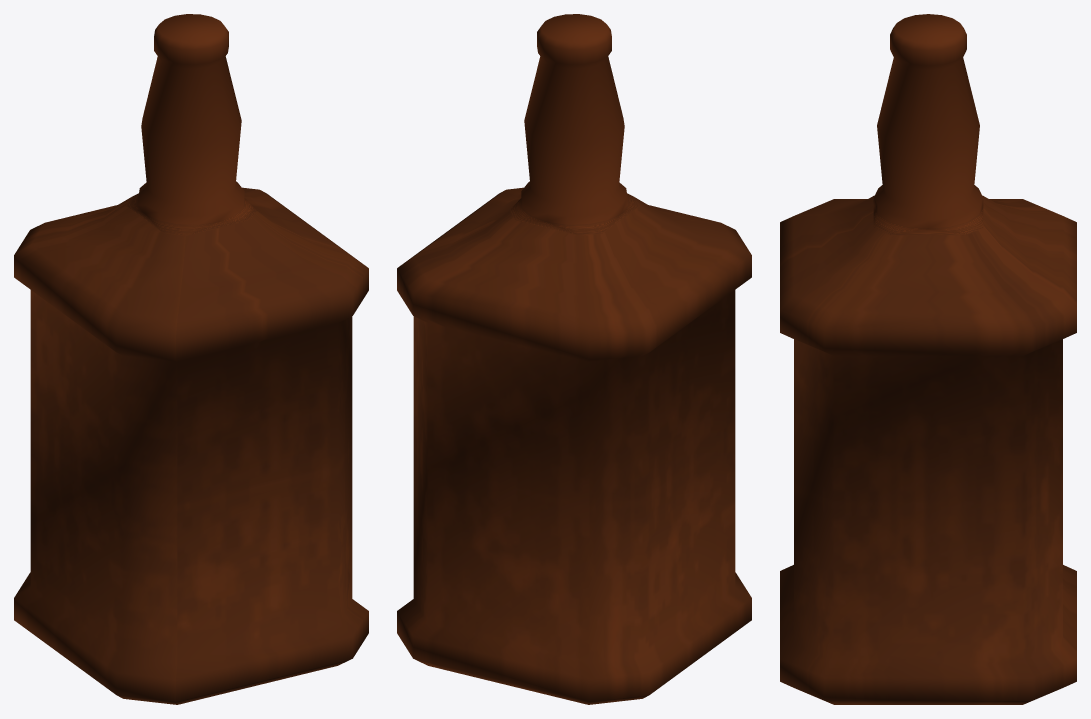
Rendered from whisky-butelka.fbx.
3 renders of one model, left to right at view 1: azimuth 30°, elevation 25°; view 2: azimuth 150°, elevation 25°; view 3: azimuth 270°, elevation 25°, orthographic.
Parts seen in each view (by area): view 1: Cube; view 2: Cube; view 3: Cube.
Boxes of the visible parts, x1,y1,x2,y2 form: Cube: (14,14,368,704); Cube: (397,14,751,704); Cube: (780,14,1076,704).
Size of the model in its own units: 13.07 by 30.11 by 13.07.
Materials: 1 (1 with a texture image).
